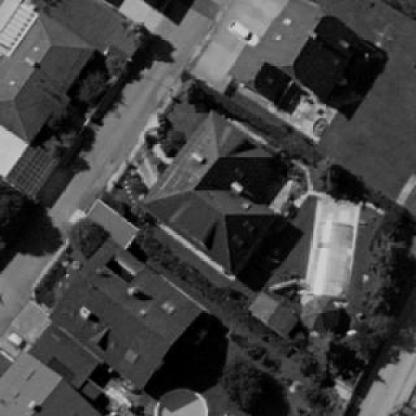solar-pv-panel: (153, 121, 209, 193)
